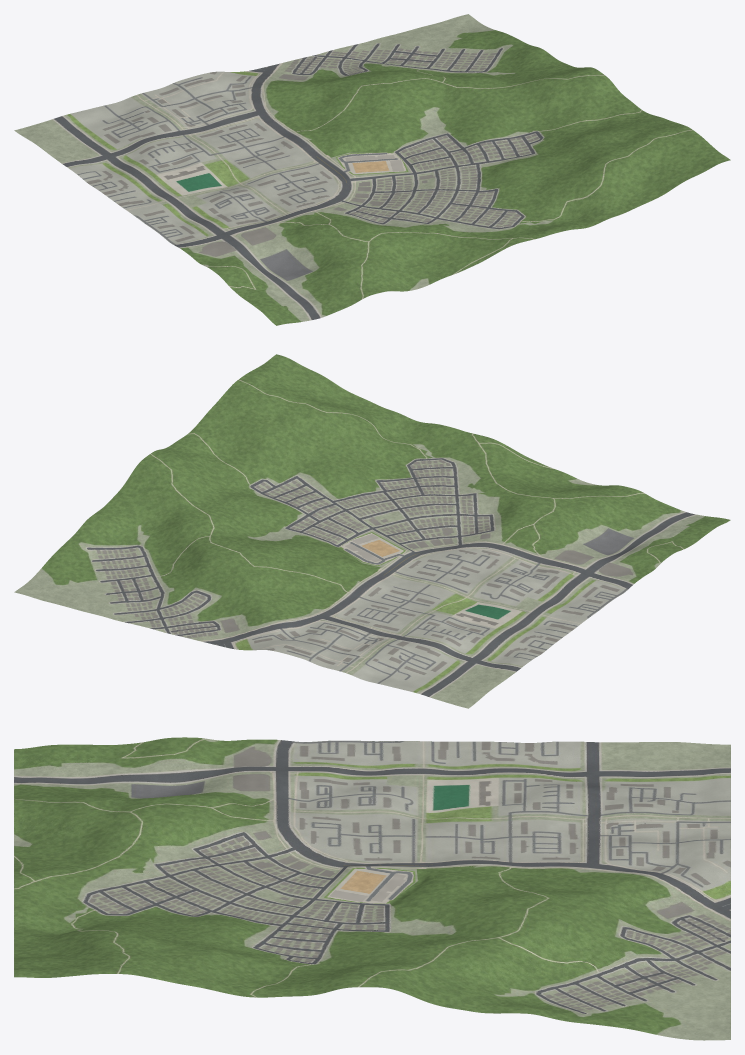
3 views of the same model, one above another, from view 1: azimuth 30°, elevation 25°; view 2: azimuth 150°, elevation 25°; view 3: azimuth 270°, elevation 25° (orthographic). The views are drawn at different scales.
Parts seen in each view (by area): view 1: ground-area, ground-school; view 2: ground-area, ground-school; view 3: ground-area, ground-school.
Part boxes in pixels (left/top/right/bottom): ground-area: left=14, top=14, right=730, bottom=325; ground-school: left=314, top=128, right=434, bottom=193; ground-area: left=14, top=354, right=730, bottom=708; ground-school: left=312, top=520, right=432, bottom=576; ground-area: left=14, top=737, right=730, bottom=1040; ground-school: left=306, top=863, right=432, bottom=908.
Size of the model in its own units: 1088 by 138 by 1088.
2 materials, 2 textured.
